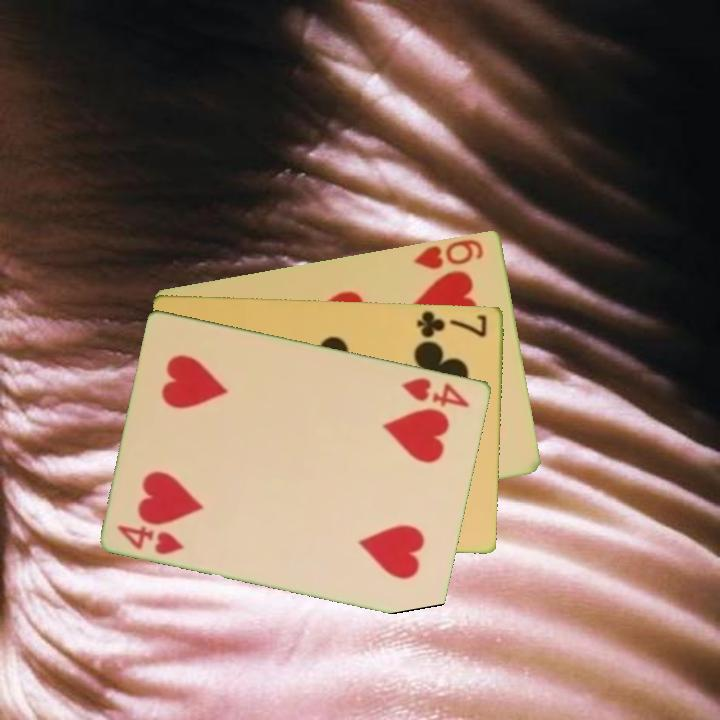4h: (398, 374, 473, 410), (114, 521, 187, 557)
6h: (411, 235, 487, 272)
7c: (414, 307, 490, 340)
